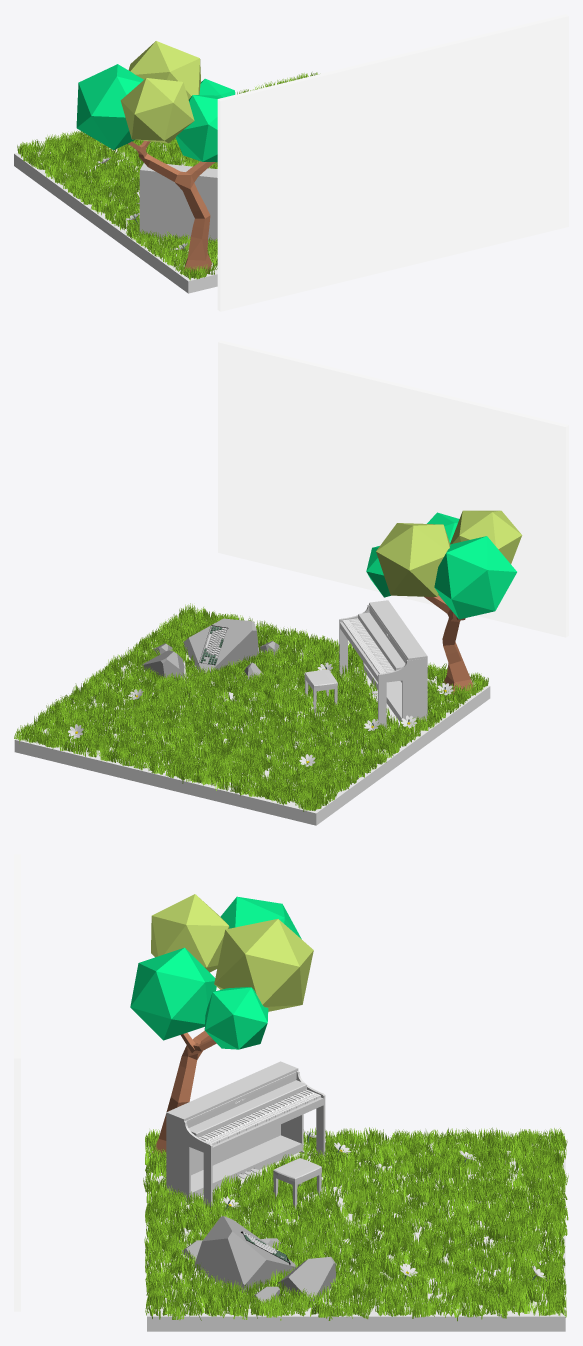
3 renders of one model, top to bottom at view 1: azimuth 30°, elevation 25°; view 2: azimuth 150°, elevation 25°; view 3: azimuth 270°, elevation 25°, orthographic. The views are drawn at different scales.
Parts seen in each view (by area): view 1: Screen, Stage, Icosphere.004, Icosphere.005, Cube.042, Trunk, Icosphere.003, Icosphere.001, Icosphere, Cube.051; view 2: Screen, Stage, Icosphere.004, Icosphere.003, Big Rock, Icosphere.005, Trunk, Cube.051, Cube.039, Cube.045, Medium Rock, Cube.047 (+1 smaller); view 3: Stage, Icosphere.003, Icosphere.001, Big Rock, Icosphere.005, Icosphere, Screen, Cube.039, Cube.051, Trunk, Medium Rock, Icosphere.004 (+7 smaller).
Boxes of the visible parts, <box> form: Screen: <box>217,14,568,311</box>; Stage: <box>14,136,217,293</box>; Icosphere.004: <box>76,64,143,149</box>; Icosphere.005: <box>120,78,194,143</box>; Cube.042: <box>142,172,217,242</box>; Trunk: <box>128,140,215,272</box>; Icosphere.003: <box>128,41,200,99</box>; Icosphere.001: <box>175,95,221,162</box>; Icosphere: <box>199,78,235,97</box>; Cube.051: <box>140,163,217,179</box>; Screen: <box>218,340,568,637</box>; Stage: <box>14,616,490,825</box>; Icosphere.004: <box>434,536,516,619</box>; Icosphere.003: <box>376,523,450,596</box>; Big Rock: <box>183,618,258,673</box>; Icosphere.005: <box>450,510,522,563</box>; Trunk: <box>424,595,472,694</box>; Cube.051: <box>369,600,427,660</box>; Cube.039: <box>358,608,406,670</box>; Cube.045: <box>402,677,427,724</box>; Medium Rock: <box>142,650,184,682</box>; Cube.047: <box>378,658,427,683</box>; Stage: <box>147,1140,565,1331</box>; Icosphere.003: <box>214,919,313,1011</box>; Icosphere.001: <box>130,947,216,1040</box>; Big Rock: <box>194,1216,296,1293</box>; Icosphere.005: <box>151,894,229,972</box>; Icosphere: <box>204,987,268,1049</box>; Screen: <box>14,854,20,1311</box>; Cube.039: <box>187,1074,306,1137</box>; Cube.051: <box>166,1061,298,1121</box>; Trunk: <box>152,1030,216,1155</box>; Medium Rock: <box>278,1257,335,1301</box>; Icosphere.004: <box>220,896,301,939</box>.
Size of what is drawn, in the model's own units: 7.69 by 4.53 by 7.95.
